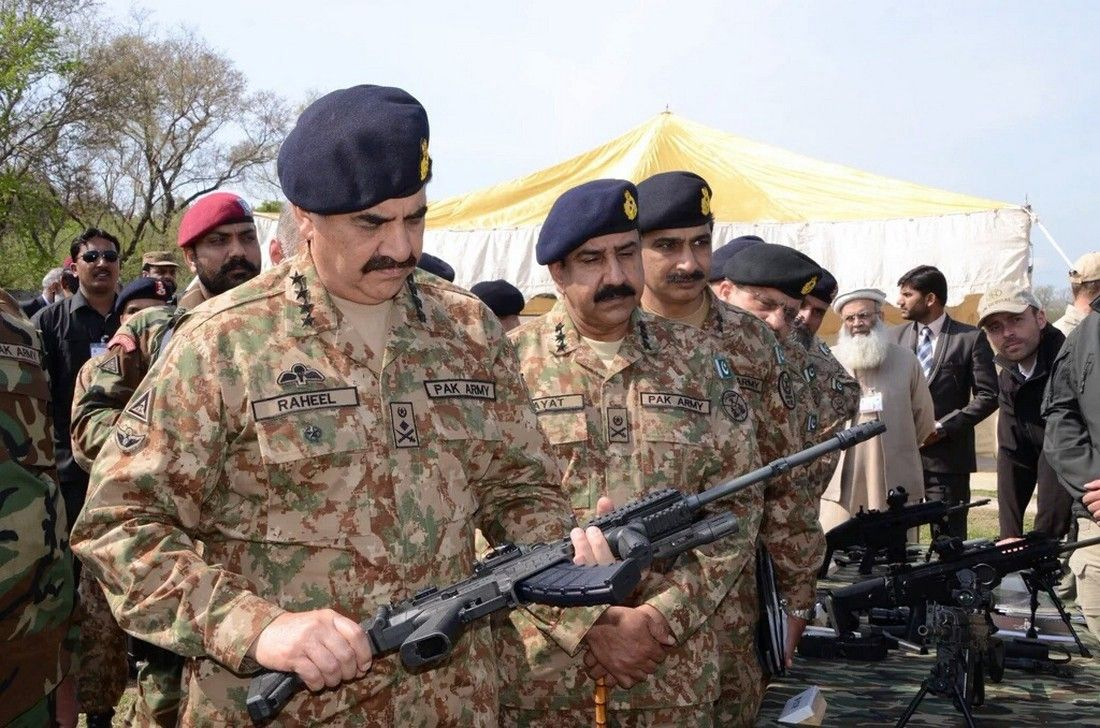gun: (278, 384, 871, 676), (834, 517, 1084, 653), (826, 483, 1017, 552)
uniform: (175, 280, 530, 720), (511, 318, 741, 720), (659, 295, 819, 641)
